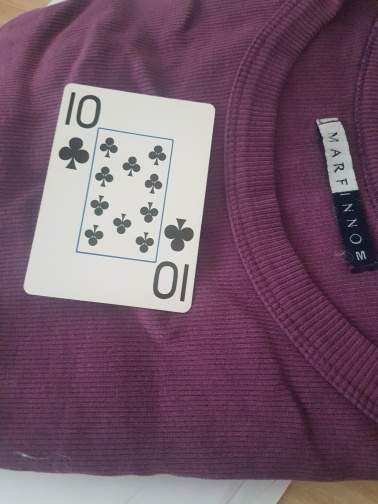ten: (22, 82, 215, 314)
